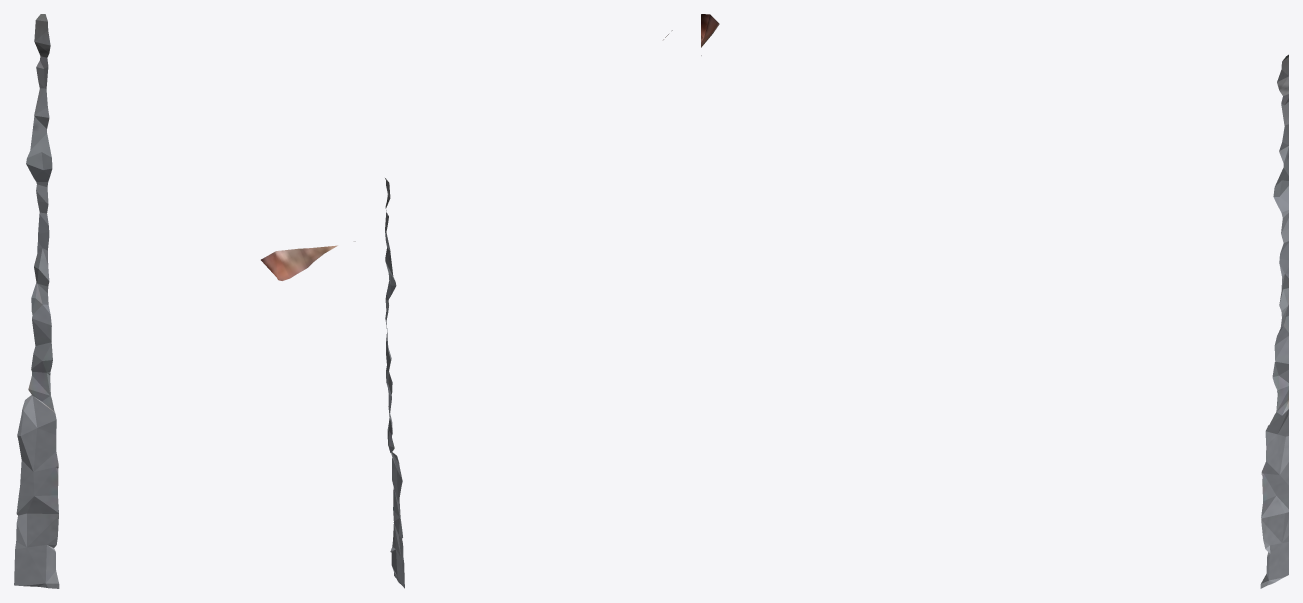
3 renders of one model, left to right at view 1: azimuth 30°, elevation 25°; view 2: azimuth 150°, elevation 25°; view 3: azimuth 270°, elevation 25°, orthographic. The views are drawn at different scales.
Size of the model in its own units: 0.1421 by 0.8374 by 0.8373.
1 material, 1 textured.
